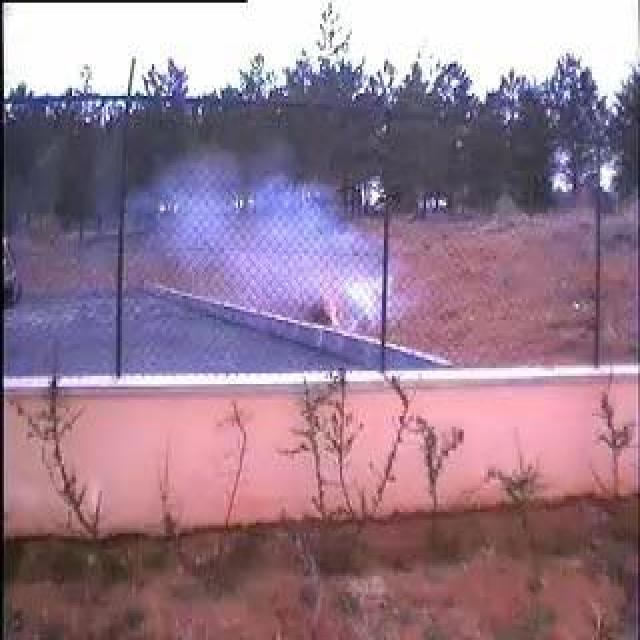Smoke: (125, 142, 391, 366)
